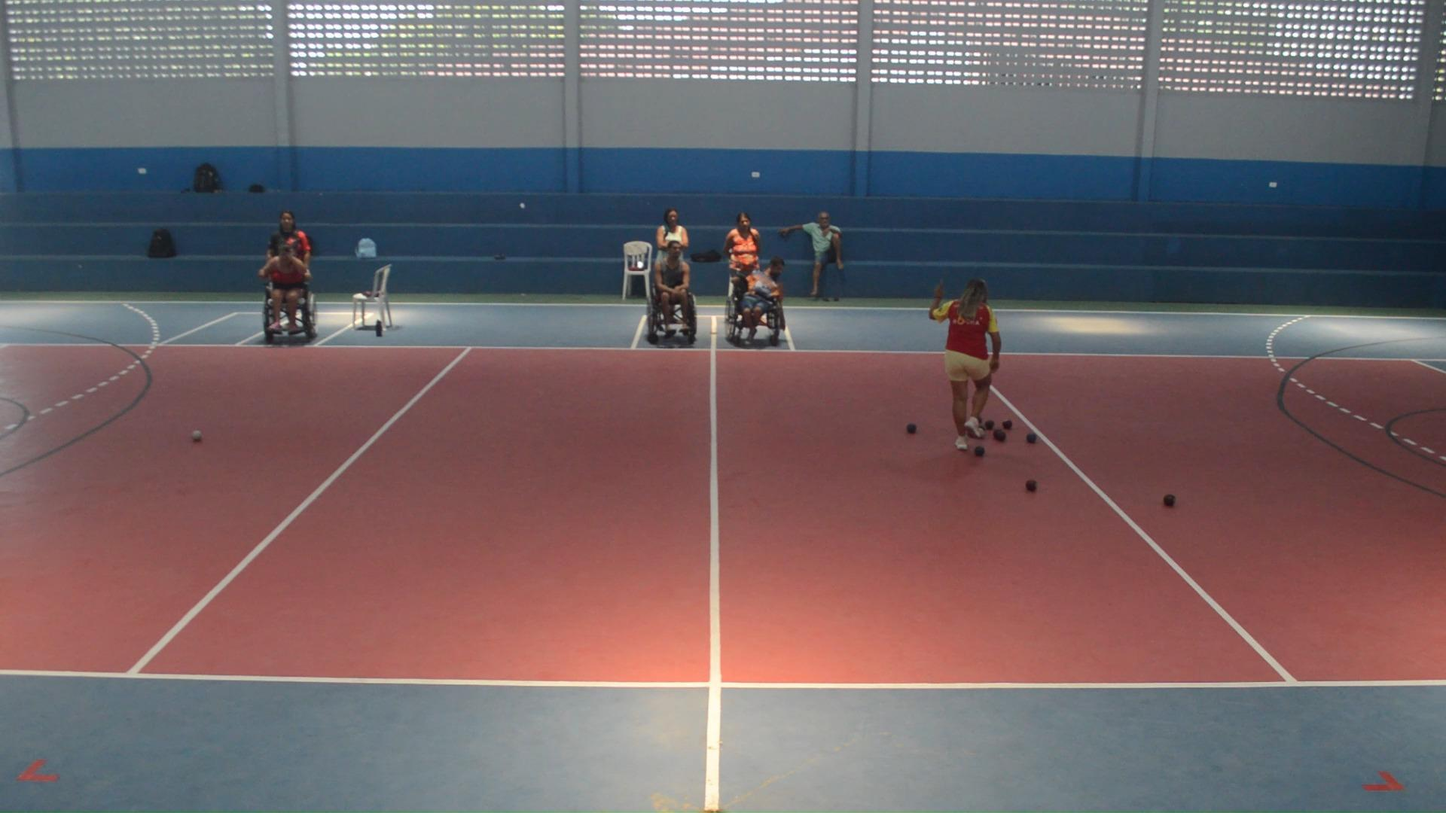blue_ball: (905, 422, 918, 435), (973, 445, 986, 458), (1025, 432, 1037, 444)
red_ball: (1162, 492, 1177, 509), (1024, 479, 1038, 492), (1001, 418, 1014, 430), (984, 418, 996, 431), (996, 430, 1007, 443), (992, 429, 1003, 441)
white_ball: (189, 428, 204, 443)
